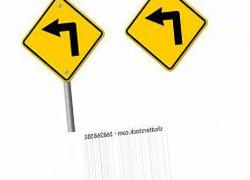left: (21, 1, 105, 81), (124, 1, 207, 72)
